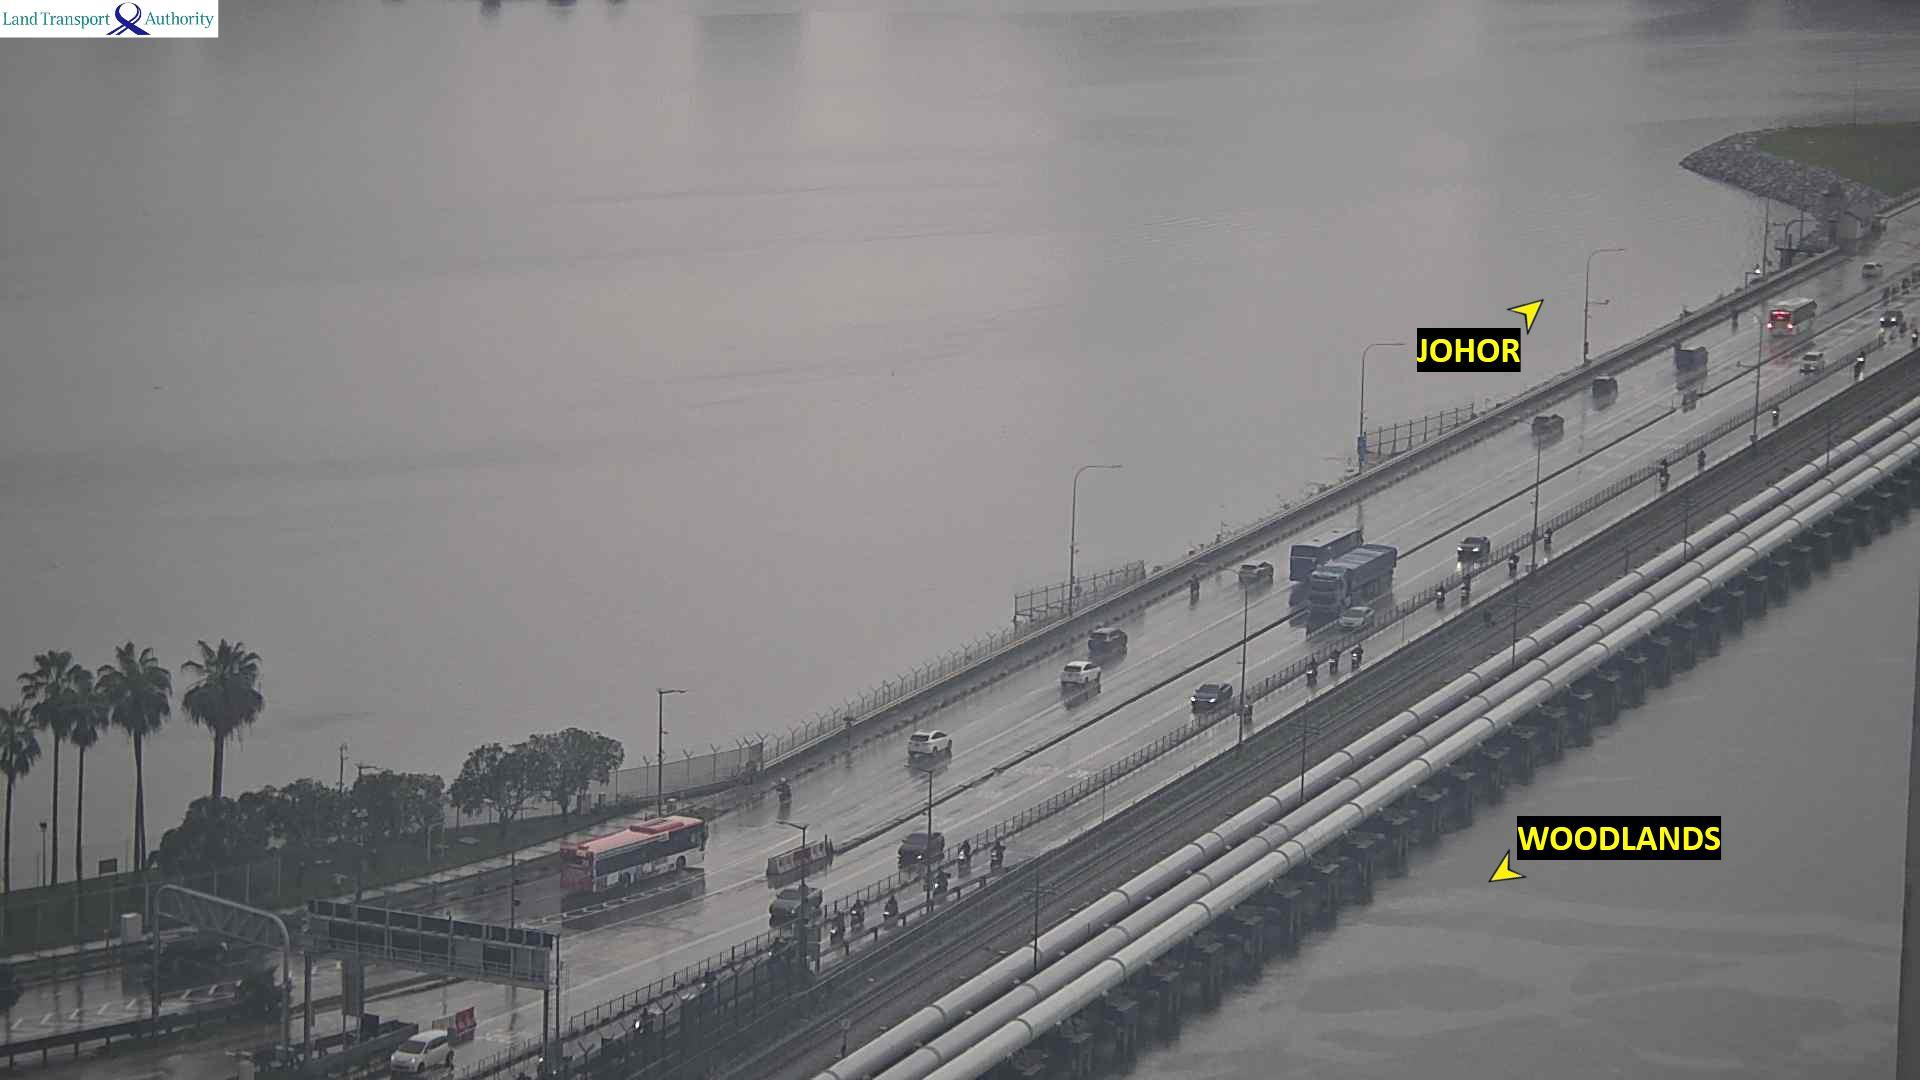vehicle-causeway-johor: (566, 825, 704, 889), (1290, 526, 1361, 580), (1768, 298, 1817, 332), (1084, 626, 1125, 651), (910, 731, 952, 753), (1062, 661, 1101, 684), (1677, 348, 1712, 369), (1240, 566, 1278, 583), (1535, 415, 1569, 433), (1593, 376, 1618, 396), (778, 777, 793, 802), (1859, 264, 1884, 277), (1189, 574, 1200, 599)
vehicle-causeway-singapore: (1305, 550, 1403, 601), (392, 1027, 454, 1067), (769, 885, 822, 916), (899, 831, 944, 860), (1187, 684, 1232, 709), (1337, 607, 1374, 629), (1456, 535, 1490, 556), (1803, 352, 1828, 373), (1849, 353, 1867, 380), (831, 911, 845, 943), (932, 872, 952, 894), (1348, 642, 1362, 671), (992, 841, 1006, 868), (884, 894, 898, 918), (959, 841, 973, 865), (1303, 659, 1319, 680), (1879, 311, 1903, 324), (853, 901, 866, 923), (1329, 649, 1340, 671), (1659, 459, 1667, 487), (1433, 585, 1444, 605), (1244, 695, 1253, 717), (1461, 576, 1469, 600), (1510, 553, 1518, 574), (1697, 448, 1705, 467), (1544, 527, 1552, 545), (1772, 405, 1779, 423), (1912, 330, 1917, 344)
